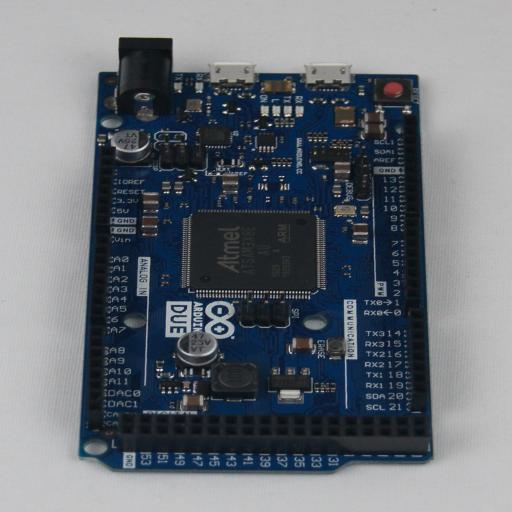Arduino Due: (79, 37, 433, 474)
